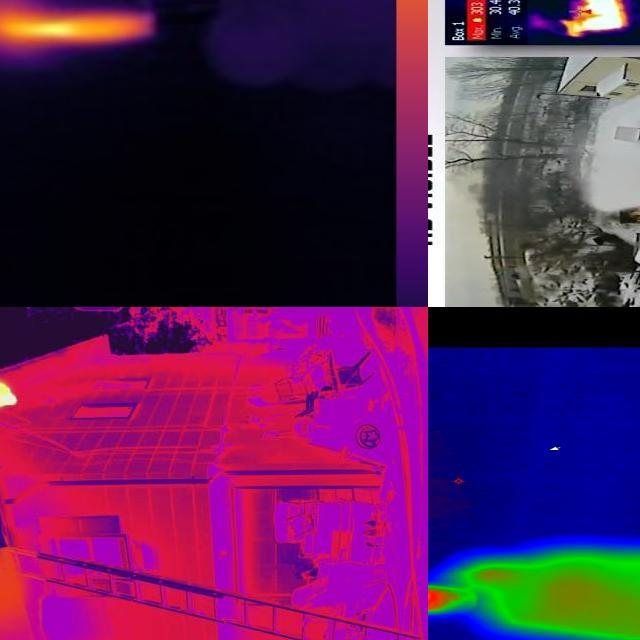fire: (1, 1, 158, 48), (1, 332, 39, 444), (560, 1, 628, 38), (429, 580, 463, 615), (632, 209, 640, 224)
